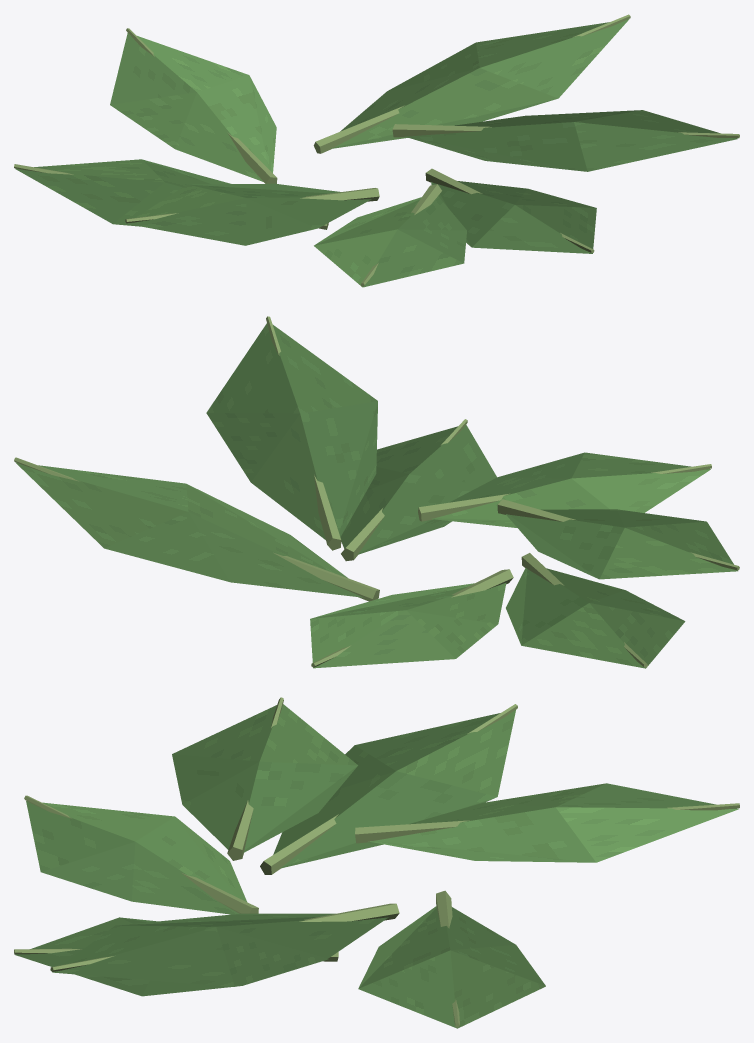
The model's file is horseradish_greens.glb.
3 renders of one model, top to bottom at view 1: azimuth 30°, elevation 25°; view 2: azimuth 150°, elevation 25°; view 3: azimuth 270°, elevation 25°, orthographic. The views are drawn at different scales.
Parts seen in each view (by area): view 1: block_veined leaf blade (×14), block_veined leaf tip (×14), block_veined leaf vein (×6); view 2: block_veined leaf blade (×14), block_veined leaf tip (×14), block_veined leaf vein (×7); view 3: block_veined leaf blade (×13), block_veined leaf tip (×14), block_veined leaf vein (×6).
Boxes of the visible parts, <box> form: block_veined leaf blade (×14): <box>110,42,641,263</box>; block_veined leaf tip (×14): <box>15,19,738,287</box>; block_veined leaf vein (×6): <box>125,14,739,286</box>; block_veined leaf blade (×14): <box>104,401,705,658</box>; block_veined leaf tip (×14): <box>15,323,737,668</box>; block_veined leaf vein (×7): <box>14,316,739,667</box>; block_veined leaf blade (×13): <box>41,745,605,996</box>; block_veined leaf tip (×14): <box>14,704,738,1028</box>; block_veined leaf vein (×6): <box>24,697,739,1027</box>.
Size of the model in its own units: 0.0872 by 0.0123 by 0.0769.
2 materials, 2 textured.
